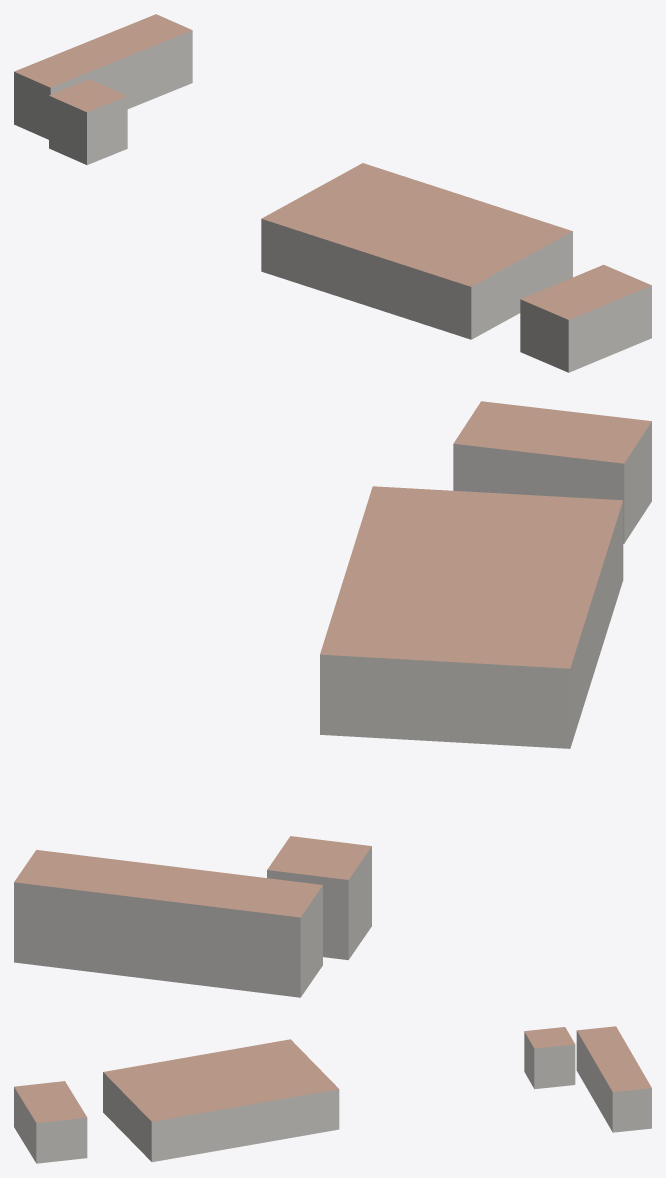
Rendered from gridID_35.dae.
3 views of the same model, one above another, from view 1: azimuth 30°, elevation 25°; view 2: azimuth 150°, elevation 25°; view 3: azimuth 270°, elevation 25° (orthographic). The views are drawn at different scales.
Parts seen in each view (by area): view 1: model_gridID_35_w379069943, model_gridID_35_w379069940, model_gridID_35_w379069948, model_gridID_35_w379069940_001; view 2: model_gridID_35_w379069943, model_gridID_35_w379069940, model_gridID_35_w379069948, model_gridID_35_w379069940_001; view 3: model_gridID_35_w379069943, model_gridID_35_w379069940, model_gridID_35_w379069948, model_gridID_35_w379069940_001.
Boxes of the visible parts, <box> form: model_gridID_35_w379069943: <box>261,163,572,339</box>; model_gridID_35_w379069940: <box>14,14,192,139</box>; model_gridID_35_w379069948: <box>520,264,651,372</box>; model_gridID_35_w379069940_001: <box>49,79,127,164</box>; model_gridID_35_w379069943: <box>320,486,623,748</box>; model_gridID_35_w379069940: <box>14,850,322,997</box>; model_gridID_35_w379069948: <box>453,401,651,543</box>; model_gridID_35_w379069940_001: <box>267,836,371,960</box>; model_gridID_35_w379069943: <box>103,1039,339,1162</box>; model_gridID_35_w379069940: <box>576,1026,651,1132</box>; model_gridID_35_w379069948: <box>14,1081,87,1163</box>; model_gridID_35_w379069940_001: <box>524,1027,575,1089</box>.
Bounding box in the file's own units: 38.52 × 107 × 7.5.
